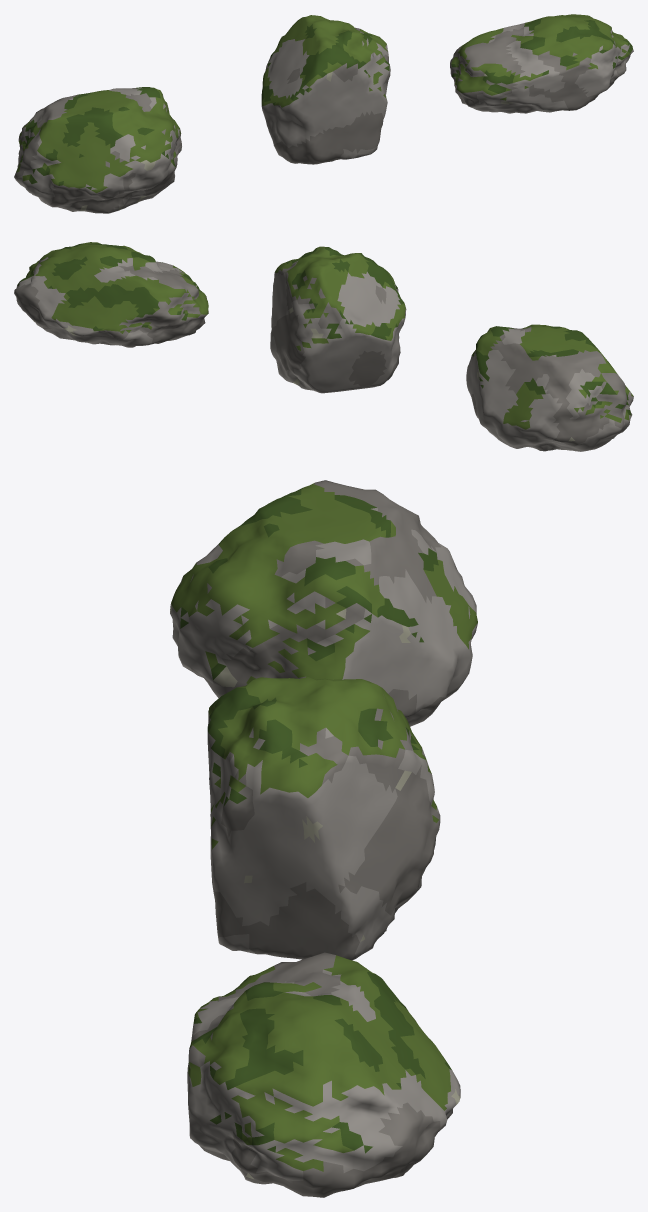
The model's file is rock.glb.
3 renders of one model, top to bottom at view 1: azimuth 30°, elevation 25°; view 2: azimuth 150°, elevation 25°; view 3: azimuth 270°, elevation 25°, orthographic. The views are drawn at different scales.
Parts seen in each view (by area): view 1: Rock_0, Rock_1, Rock_2; view 2: Rock_0, Rock_1, Rock_2; view 3: Rock_1, Rock_0, Rock_2.
Part boxes in pixels (<box>): Rock_0: <box>14,87,181,213</box>; Rock_1: <box>261,15,390,164</box>; Rock_2: <box>450,14,633,113</box>; Rock_0: <box>466,324,633,451</box>; Rock_1: <box>270,246,406,393</box>; Rock_2: <box>14,242,208,347</box>; Rock_1: <box>207,677,440,960</box>; Rock_0: <box>170,480,477,726</box>; Rock_2: <box>187,952,460,1197</box>.
Size of the model in its own units: 4.43 by 0.851 by 0.9861.
